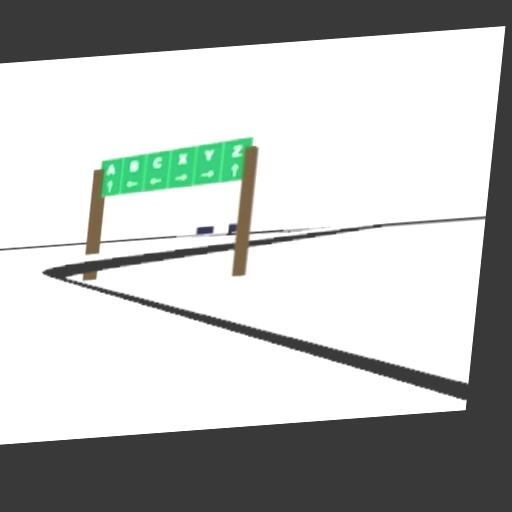A: (105, 162, 118, 176)
B: (128, 159, 139, 172)
C: (152, 155, 164, 169)
Left: (124, 179, 139, 189), (150, 175, 162, 185)
Right: (174, 172, 189, 182), (200, 169, 215, 177)
Straight: (228, 163, 239, 178), (105, 179, 114, 194)
X: (177, 153, 189, 165)
Y: (204, 149, 215, 160)
Z: (231, 144, 242, 157)
